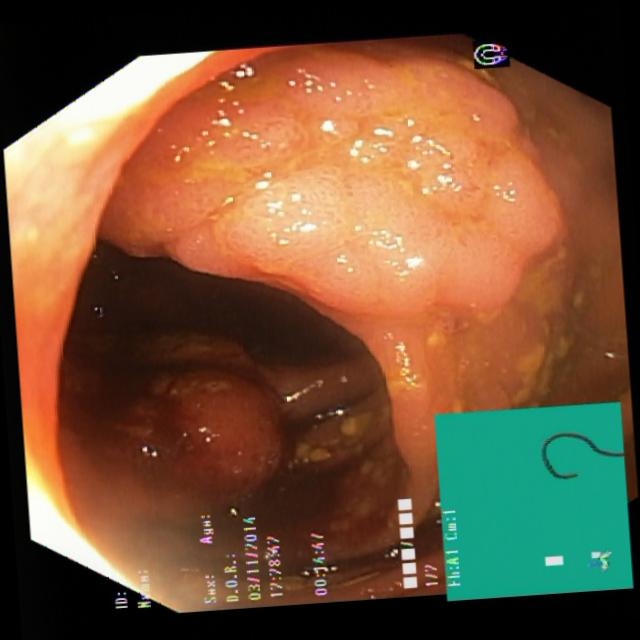Polyps: (81, 33, 588, 330), (74, 327, 291, 516)
